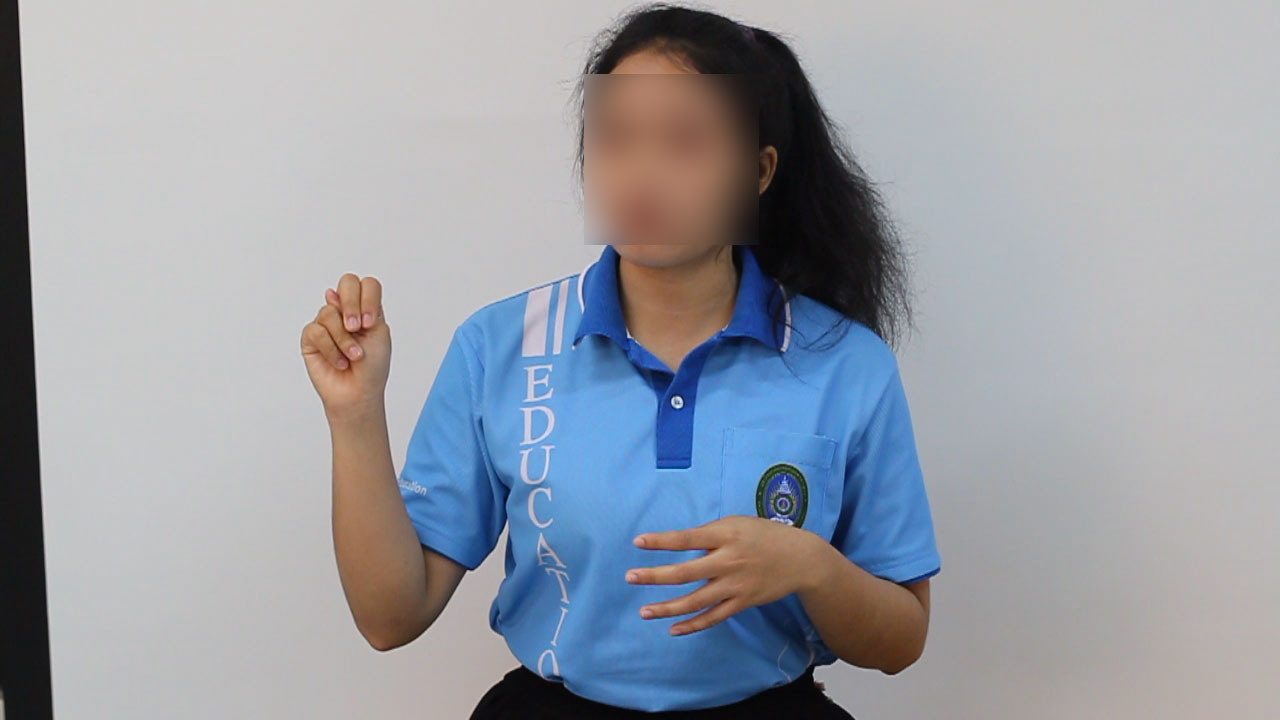nor: (294, 264, 402, 420)
